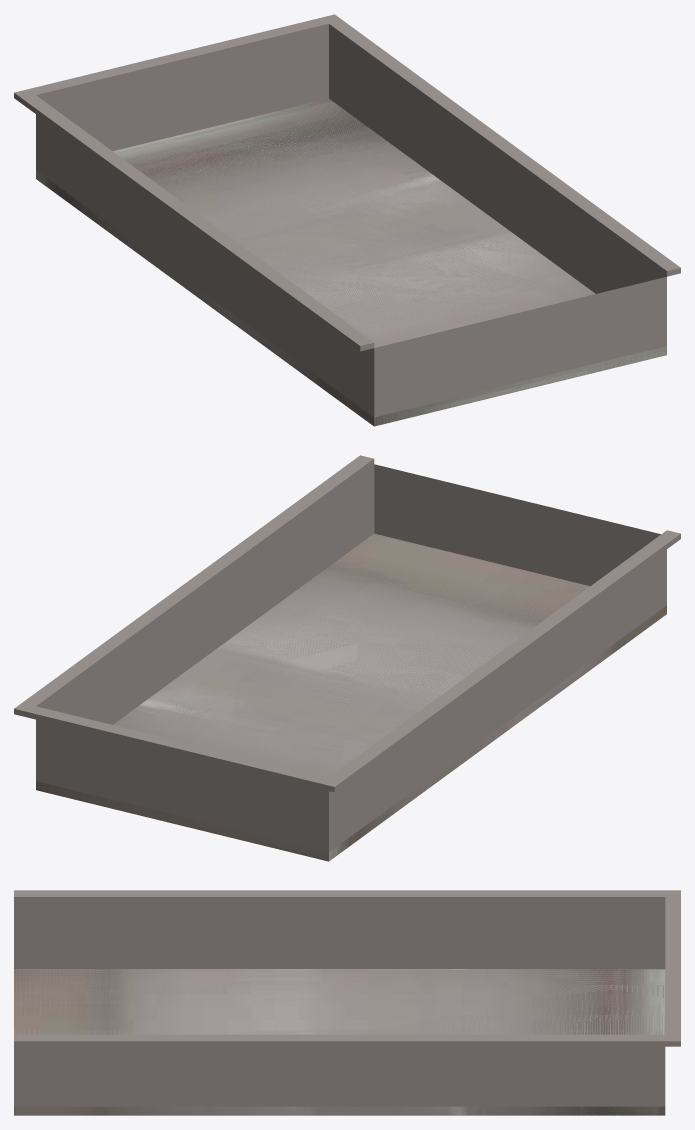
File: 3'6_Single-Door.dae
The picture shows the model from 3 angles, top to bottom: view 1: azimuth 30°, elevation 25°; view 2: azimuth 150°, elevation 25°; view 3: azimuth 270°, elevation 25°; orthographic projection. The views are drawn at different scales.
Visible parts, largest first — view 1: SketchUp, Group_36; view 2: SketchUp, Group_36; view 3: SketchUp, Group_36.
Part boxes in pixels (bbox=[...]): SketchUp: bbox=[14, 14, 680, 417]; Group_36: bbox=[36, 98, 666, 426]; SketchUp: bbox=[14, 455, 680, 852]; Group_36: bbox=[36, 533, 666, 861]; SketchUp: bbox=[14, 890, 680, 1106]; Group_36: bbox=[14, 969, 665, 1115].
Size of the model in its own units: 46 by 86 by 11.5.
Materials: 2 (1 with a texture image).
